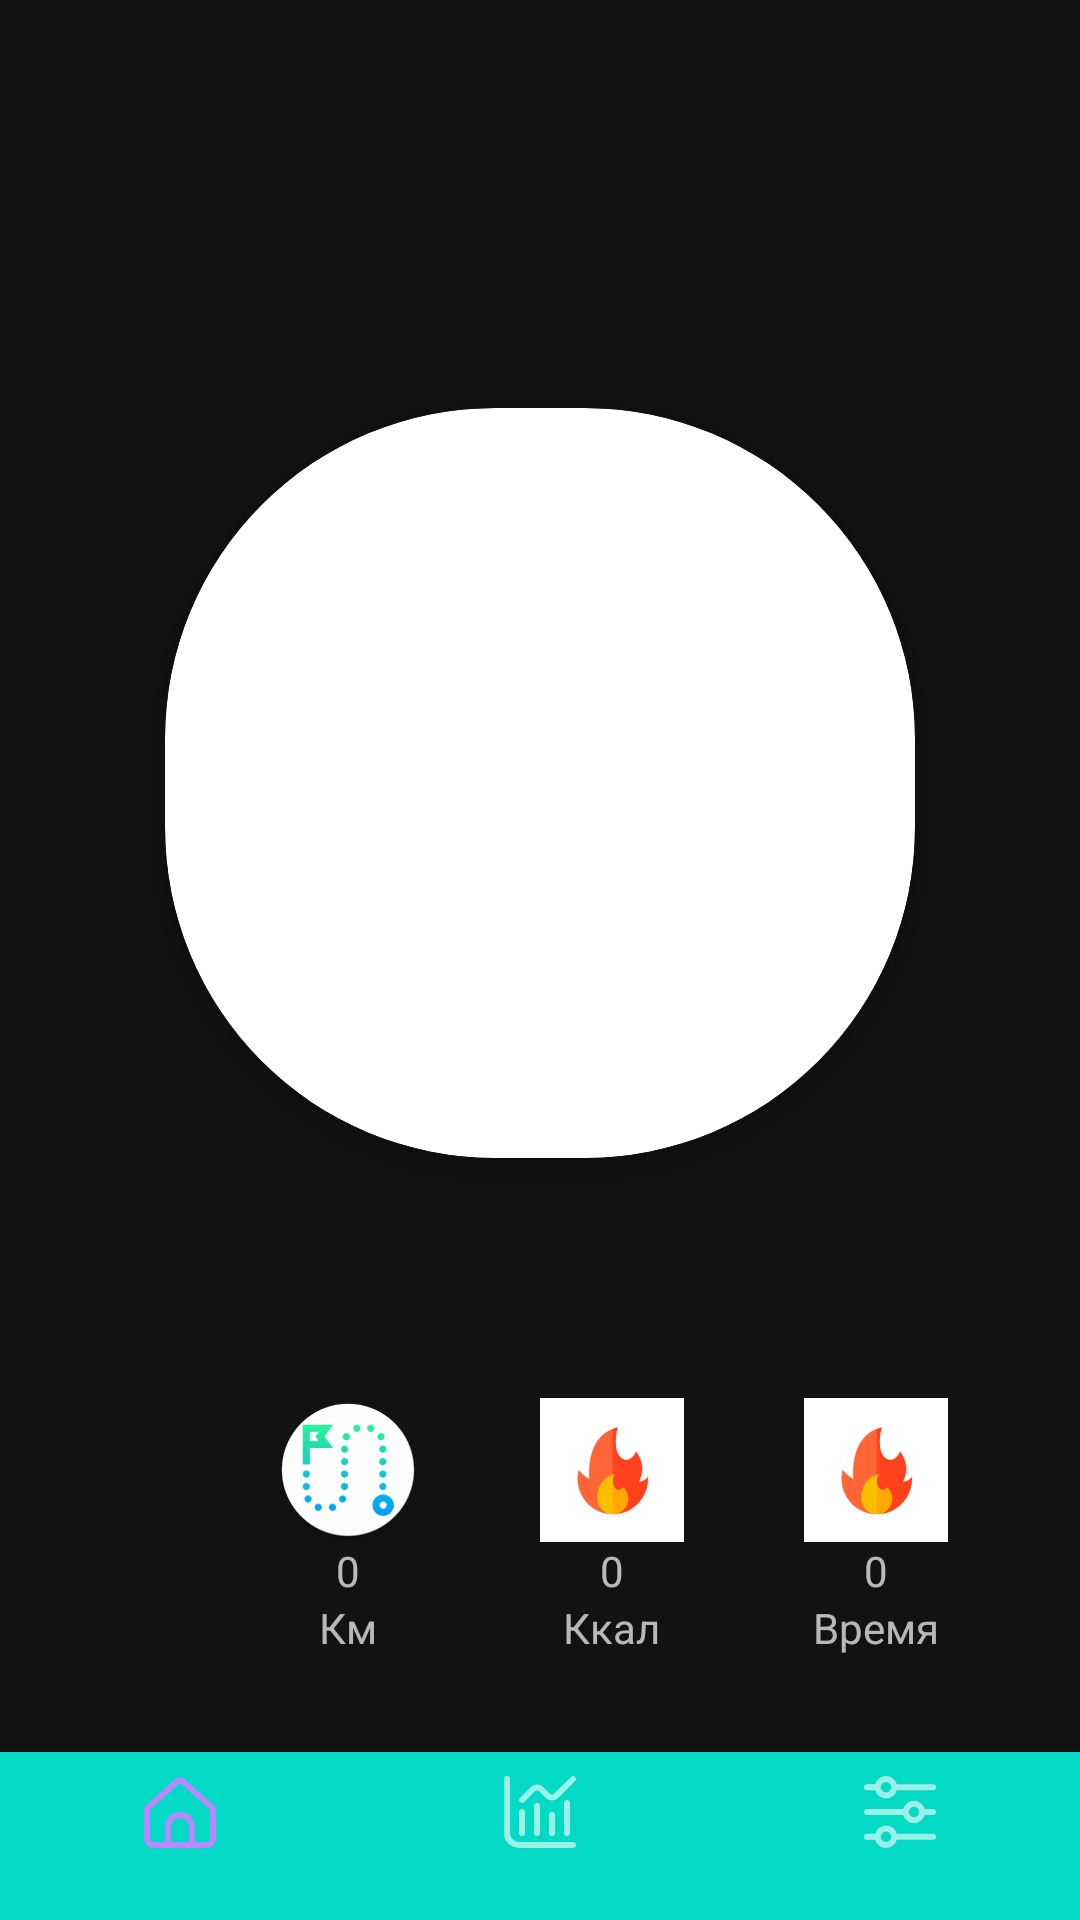

Named icons in this screenshot (1080×1920) and their bounding boxes, box(x1, y1, x2, y2):
calorie: box(540, 1398, 684, 1542), box(804, 1398, 948, 1542)
path round: box(281, 1403, 415, 1536)
